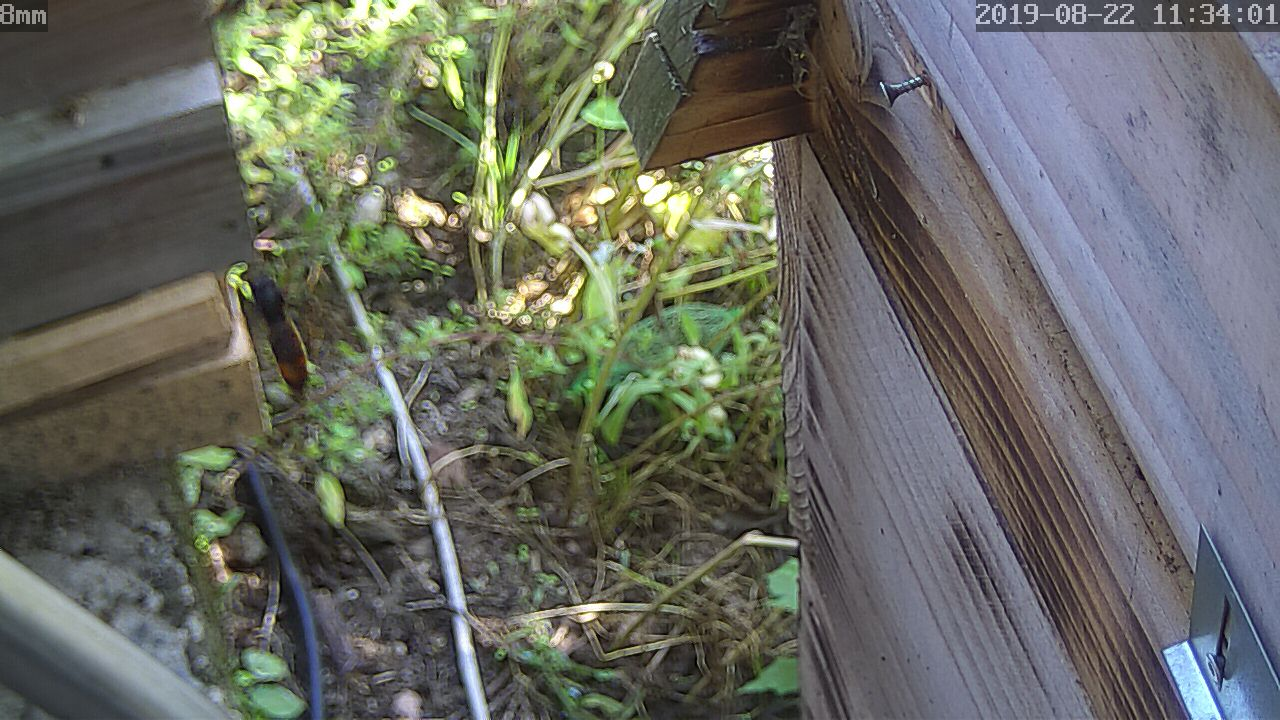hornet: (235, 268, 317, 398)
